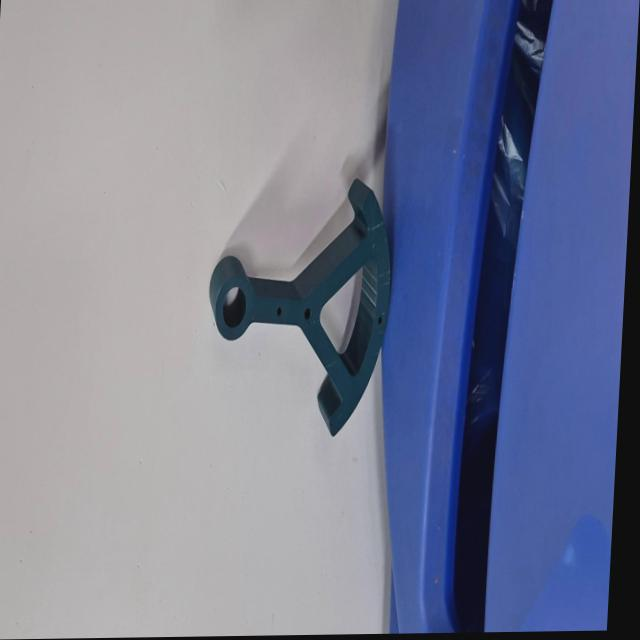haptic: (199, 175, 397, 442)
